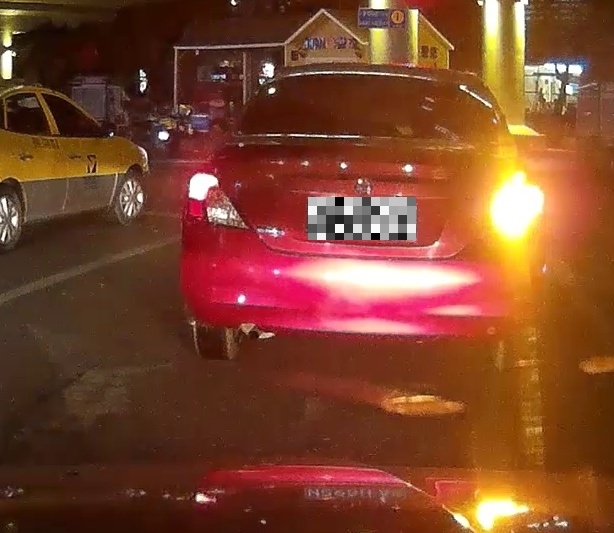L_light: (185, 162, 249, 230)
R_light: (469, 170, 533, 245)
T_light: (337, 69, 378, 77)
night-right: (178, 62, 537, 359)
plate_1: (308, 197, 416, 240)
